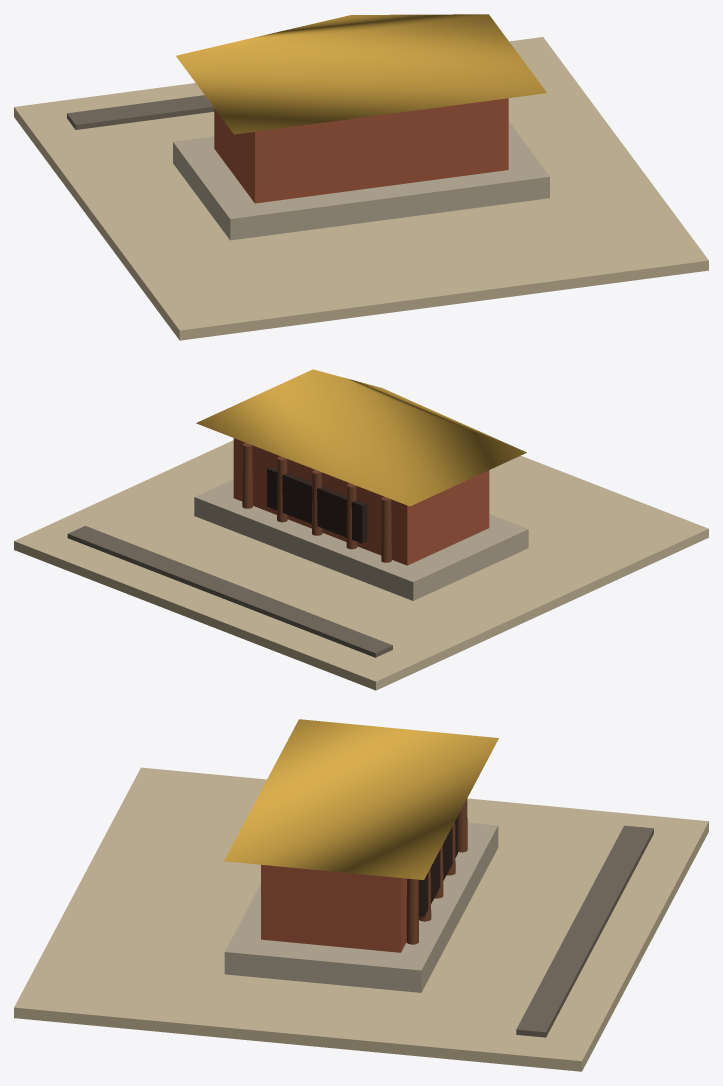
The model's file is model-medium.glb.
The picture shows the model from 3 angles, top to bottom: view 1: azimuth 30°, elevation 25°; view 2: azimuth 150°, elevation 25°; view 3: azimuth 270°, elevation 25°; orthographic projection. The views are drawn at different scales.
Parts seen in each view (by area): view 1: context_site_plinth, sweeping_tiled_roof, main_hall_wall_volume, raised_ceremonial_platform, front_scale_strip; view 2: context_site_plinth, sweeping_tiled_roof, raised_ceremonial_platform, main_hall_wall_volume, front_scale_strip, central_shadow_door, front_column_1, front_column_5, front_column_4; view 3: context_site_plinth, sweeping_tiled_roof, raised_ceremonial_platform, main_hall_wall_volume, front_scale_strip, central_shadow_door, front_column_5.
Boxes of the visible parts, left/top/right/bottom form: context_site_plinth: left=14, top=37, right=708, bottom=340; sweeping_tiled_roof: left=176, top=14, right=546, bottom=134; main_hall_wall_volume: left=214, top=98, right=508, bottom=203; raised_ceremonial_platform: left=173, top=121, right=549, bottom=240; front_scale_strip: left=67, top=95, right=214, bottom=129; context_site_plinth: left=14, top=440, right=708, bottom=690; sweeping_tiled_roof: left=196, top=369, right=526, bottom=506; raised_ceremonial_platform: left=194, top=479, right=528, bottom=600; main_hall_wall_volume: left=233, top=438, right=489, bottom=565; front_scale_strip: left=67, top=526, right=392, bottom=657; central_shadow_door: left=267, top=466, right=367, bottom=543; front_column_1: left=381, top=497, right=391, bottom=562; front_column_5: left=242, top=443, right=252, bottom=508; front_column_4: left=277, top=456, right=287, bottom=522; context_site_plinth: left=14, top=767, right=708, bottom=1071; sweeping_tiled_roof: left=224, top=719, right=498, bottom=879; raised_ceremonial_platform: left=224, top=822, right=498, bottom=992; main_hall_wall_volume: left=261, top=865, right=406, bottom=952; front_scale_strip: left=516, top=825, right=653, bottom=1037; central_shadow_door: left=418, top=816, right=457, bottom=916; front_column_5: left=406, top=878, right=418, bottom=944.
Bounding box in the file's own units: 9.55 × 2.62 × 9.55.
